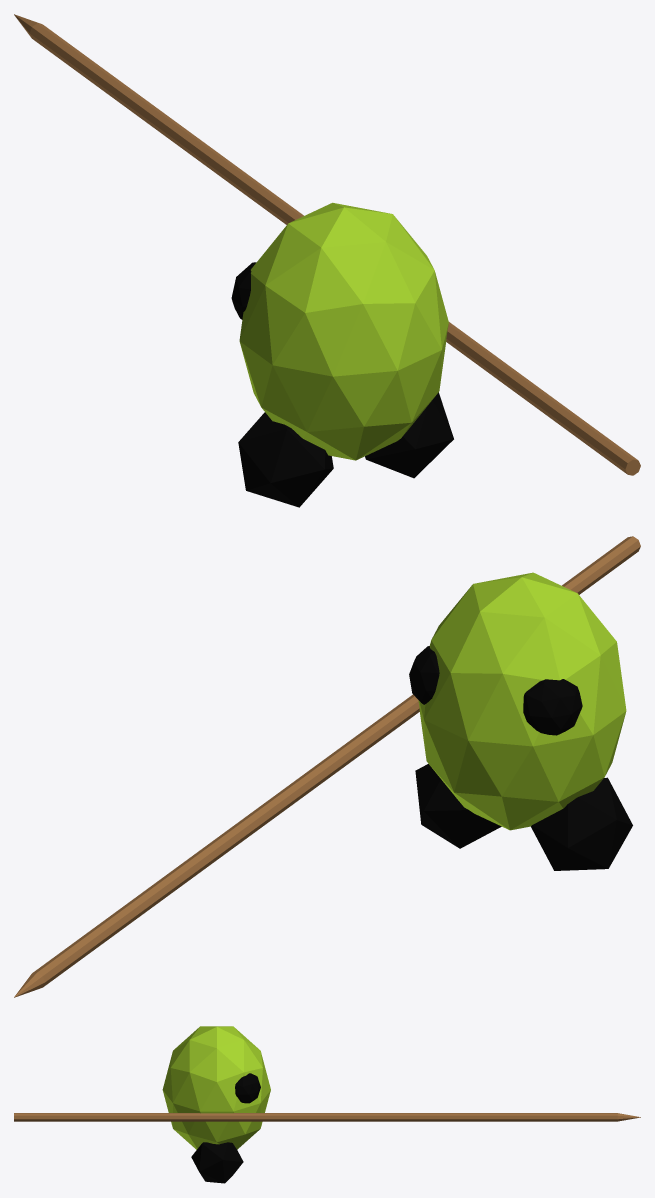
File: walk.f0029.glb
The picture shows the model from 3 angles, top to bottom: view 1: azimuth 30°, elevation 25°; view 2: azimuth 150°, elevation 25°; view 3: azimuth 270°, elevation 25°; orthographic projection. The views are drawn at different scales.
Parts seen in each view (by area): view 1: Body.001; view 2: Body.001; view 3: Body.001.
Part boxes in pixels (left/top/right/bottom): Body.001: left=14, top=14, right=640, bottom=507; Body.001: left=14, top=536, right=640, bottom=997; Body.001: left=14, top=1026, right=640, bottom=1183.
Size of the model in its own units: 2.17 by 2.86 by 11.56.
Materials: 1 (1 with a texture image).
